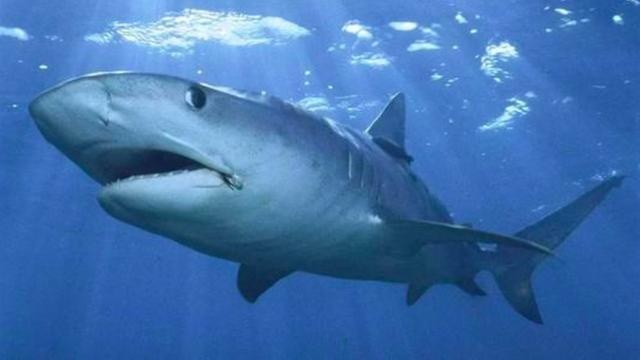fish: (22, 68, 629, 328)
